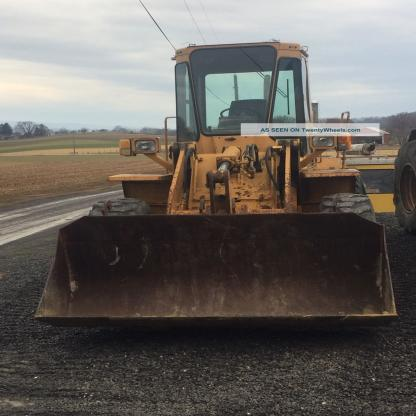bull_dozer/loader/grader: (21, 35, 412, 331)
